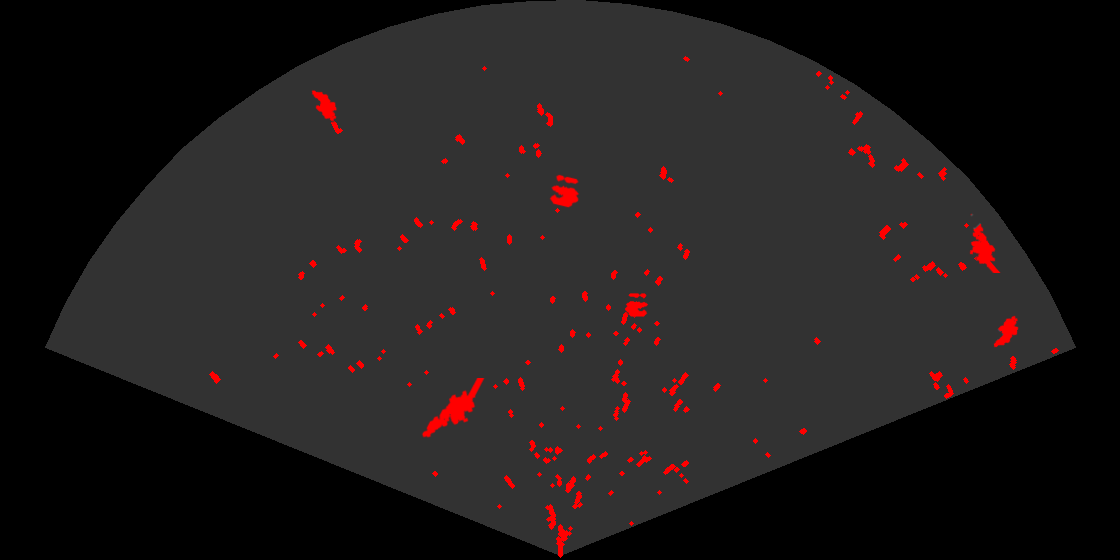AUV: (310, 88, 339, 123), (992, 314, 1020, 349)
ball: (548, 173, 581, 209), (623, 292, 650, 319)
frogman: (420, 378, 486, 439), (968, 212, 1002, 273)
